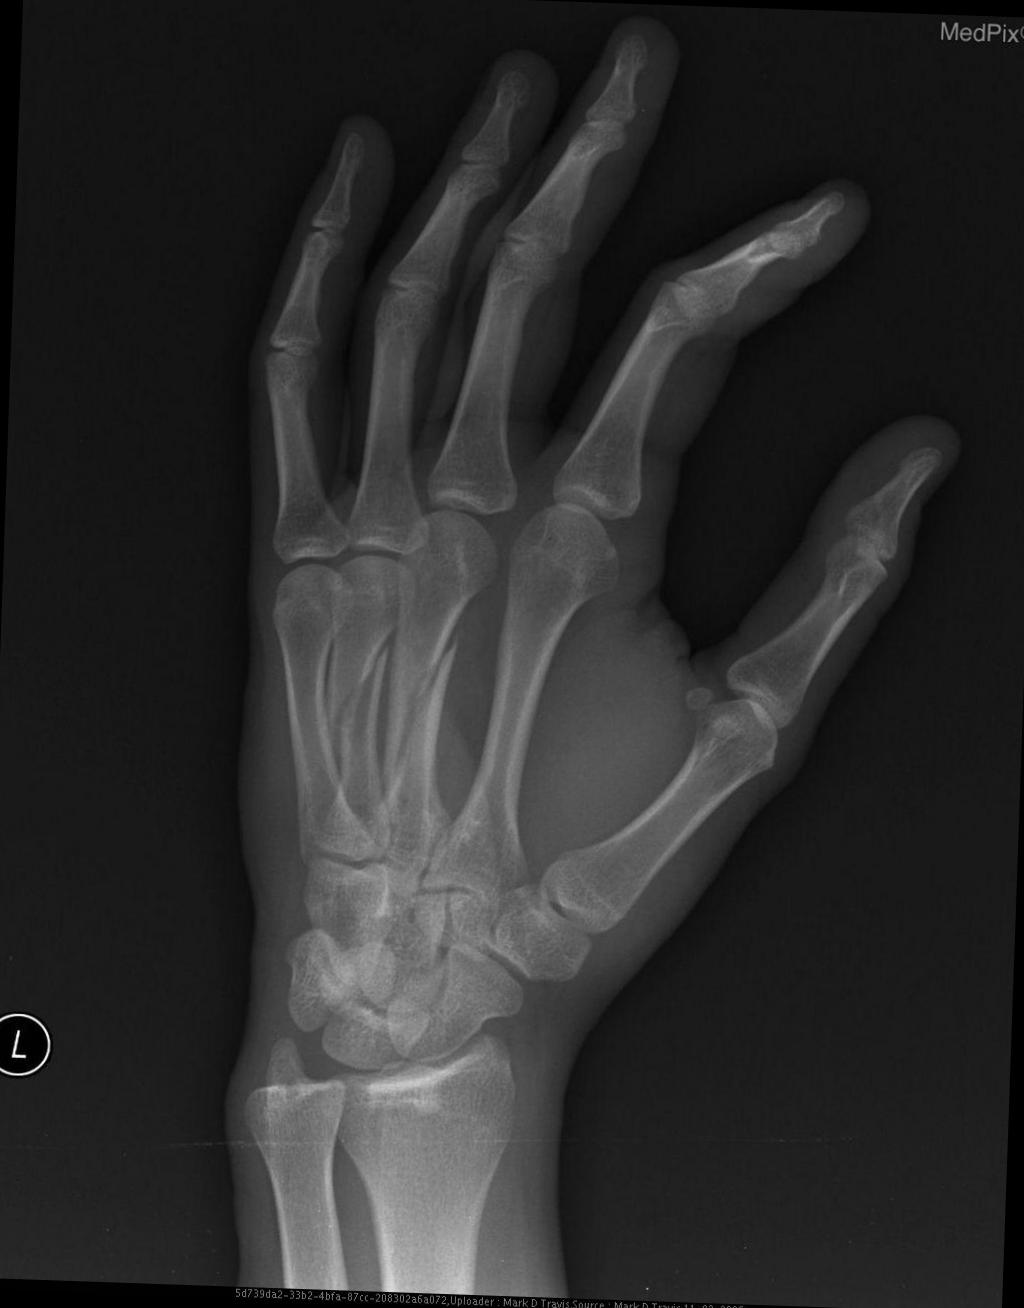fracture: (384, 624, 461, 803), (326, 616, 399, 748)
